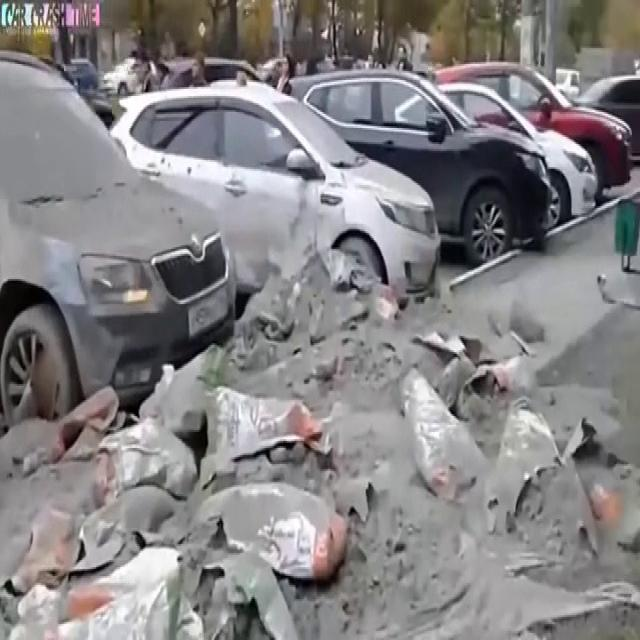accident: (0, 156, 432, 434)
